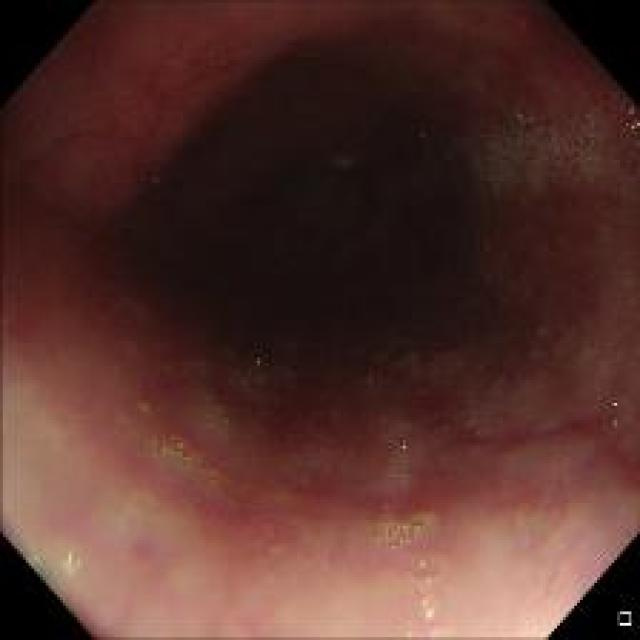bubbles: (365, 394, 449, 629), (446, 104, 620, 199), (140, 412, 225, 494), (598, 394, 631, 434), (616, 266, 635, 289), (582, 338, 599, 352), (599, 356, 611, 371)
color misalignment: (415, 556, 438, 626), (160, 441, 198, 461), (609, 396, 621, 430), (625, 106, 638, 136), (399, 434, 409, 455), (195, 359, 208, 375), (252, 355, 262, 366)
contrast: (84, 15, 570, 432)
